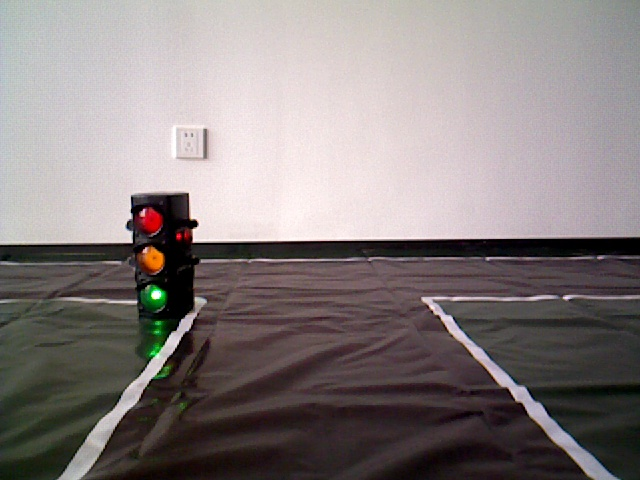green: (132, 196, 188, 309)
